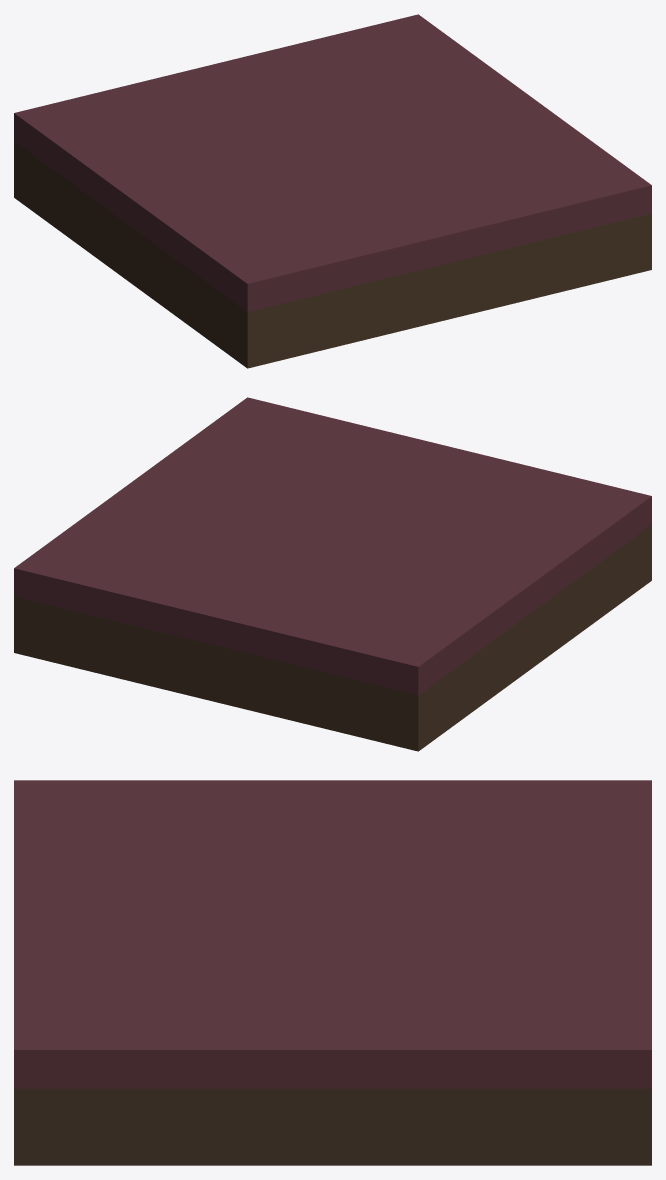
The model's file is tiles-tile-race-track-start-grid.glb.
3 renders of one model, top to bottom at view 1: azimuth 30°, elevation 25°; view 2: azimuth 150°, elevation 25°; view 3: azimuth 270°, elevation 25°, orthographic. The views are drawn at different scales.
Parts seen in each view (by area): view 1: tile-race-track-start-grid; view 2: tile-race-track-start-grid; view 3: tile-race-track-start-grid.
Boxes of the visible parts, left/top/right/bottom form: tile-race-track-start-grid: left=14, top=14, right=651, bottom=368; tile-race-track-start-grid: left=14, top=397, right=651, bottom=751; tile-race-track-start-grid: left=14, top=780, right=651, bottom=1165.
Bounding box in the file's own units: 30 × 6 × 30.
